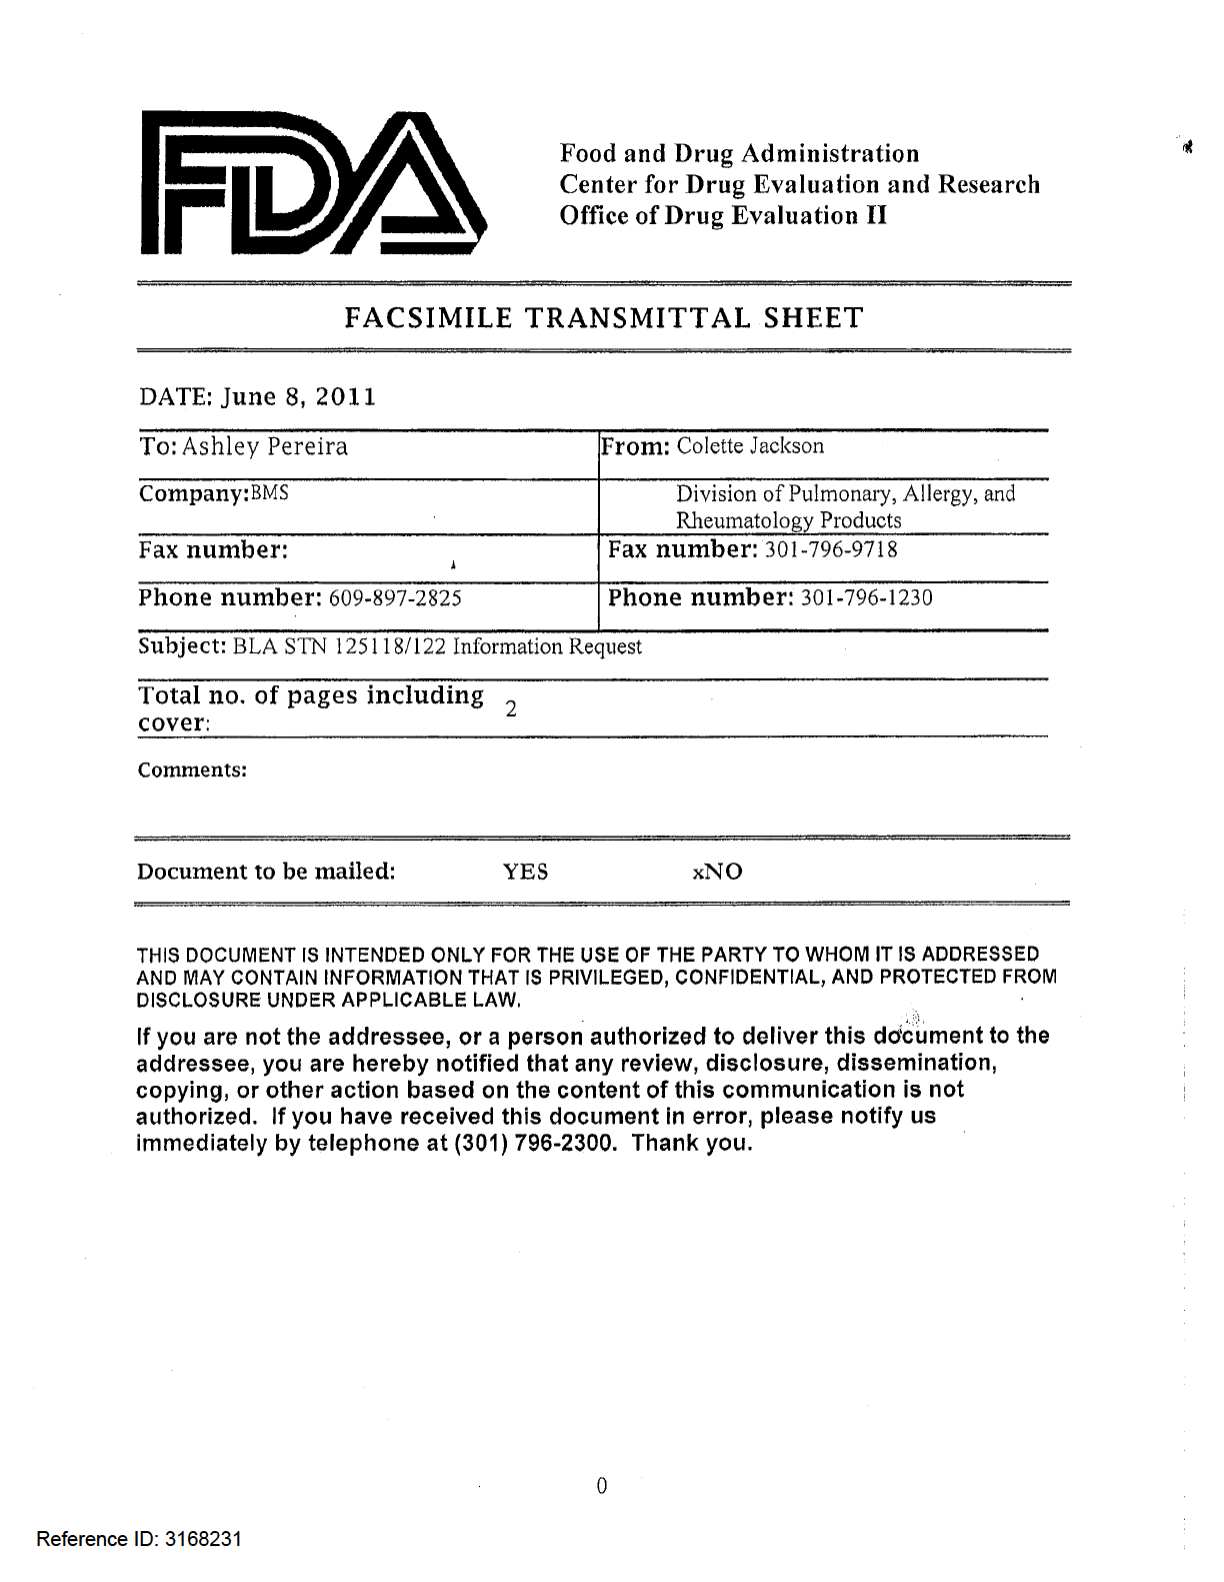partial_lined_merged_cells: (134, 344, 1076, 912)
